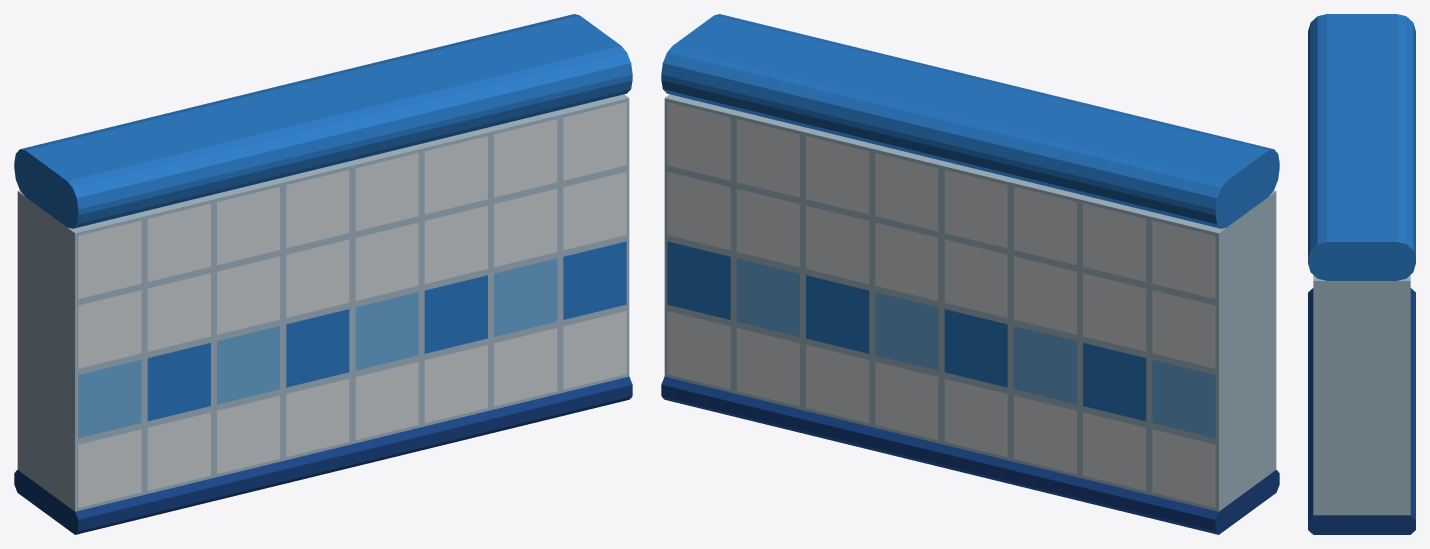
Rendered from aqua-wall1.glb.
3 renders of one model, left to right at view 1: azimuth 30°, elevation 25°; view 2: azimuth 150°, elevation 25°; view 3: azimuth 270°, elevation 25°, orthographic. The views are drawn at different scales.
Visible parts, largest first — view 1: aqua-wall1; view 2: aqua-wall1; view 3: aqua-wall1.
Boxes of the visible parts, <box> form: aqua-wall1: <box>14,14,632,534</box>; aqua-wall1: <box>661,14,1279,534</box>; aqua-wall1: <box>1308,14,1415,534</box>.
Size of the model in its own units: 2 by 1.2 by 0.4.
